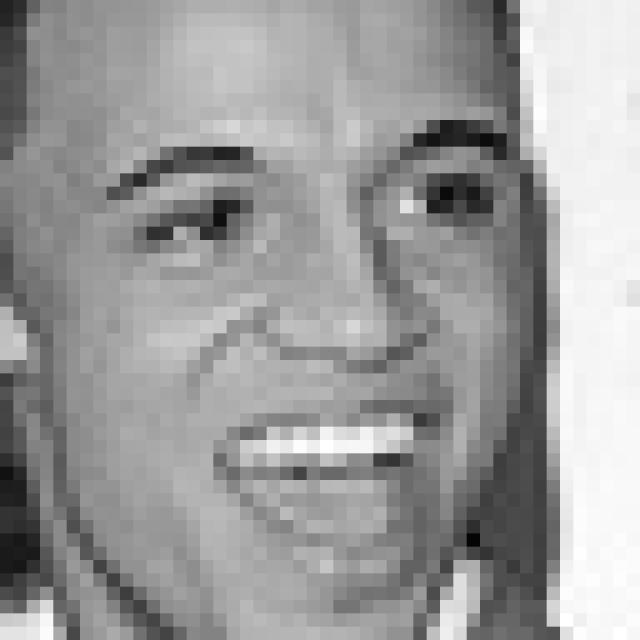happy: (93, 119, 519, 612)
